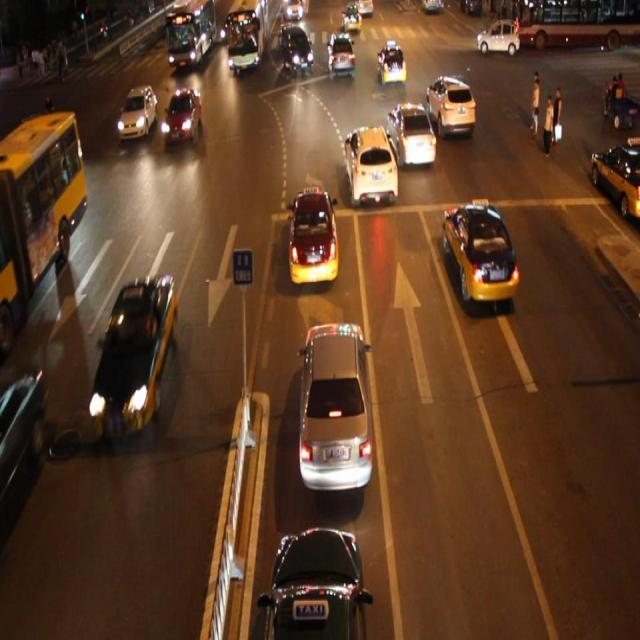car: (90, 276, 178, 433), (297, 319, 373, 495), (260, 526, 367, 640), (444, 200, 517, 305), (1, 363, 46, 512), (287, 188, 339, 284), (344, 125, 399, 206), (386, 104, 436, 166), (426, 75, 474, 136), (118, 86, 157, 138), (163, 88, 201, 140), (280, 28, 314, 75), (378, 44, 406, 86), (328, 33, 353, 75)
van: (0, 114, 86, 341), (167, 1, 216, 64), (227, 1, 267, 66)
